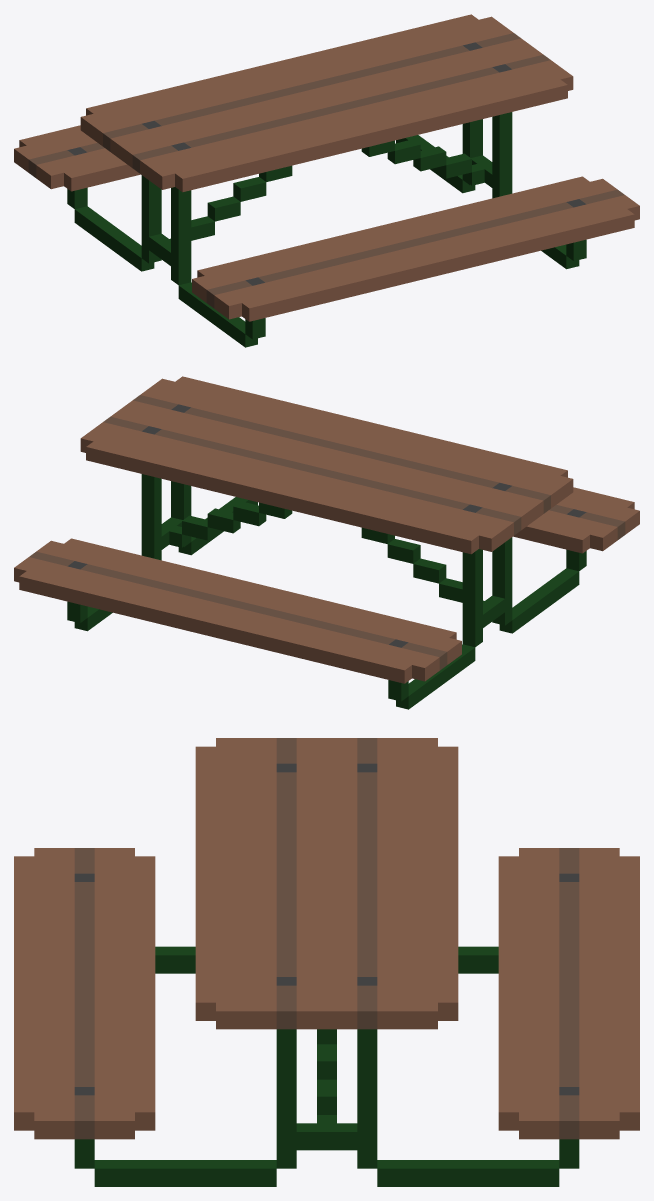
The model's file is Picnic_Table.glb.
3 views of the same model, one above another, from view 1: azimuth 30°, elevation 25°; view 2: azimuth 150°, elevation 25°; view 3: azimuth 270°, elevation 25° (orthographic). The views are drawn at different scales.
Visible parts, largest first — view 1: Picnic_Table; view 2: Picnic_Table; view 3: Picnic_Table.
Part boxes in pixels (x1,y1,x2,y2): Picnic_Table: (14, 14, 639, 347); Picnic_Table: (14, 376, 639, 709); Picnic_Table: (14, 738, 639, 1186).
Bounding box in the file's own units: 3.2 × 1.1 × 3.1.
Materials: 1 (1 with a texture image).
